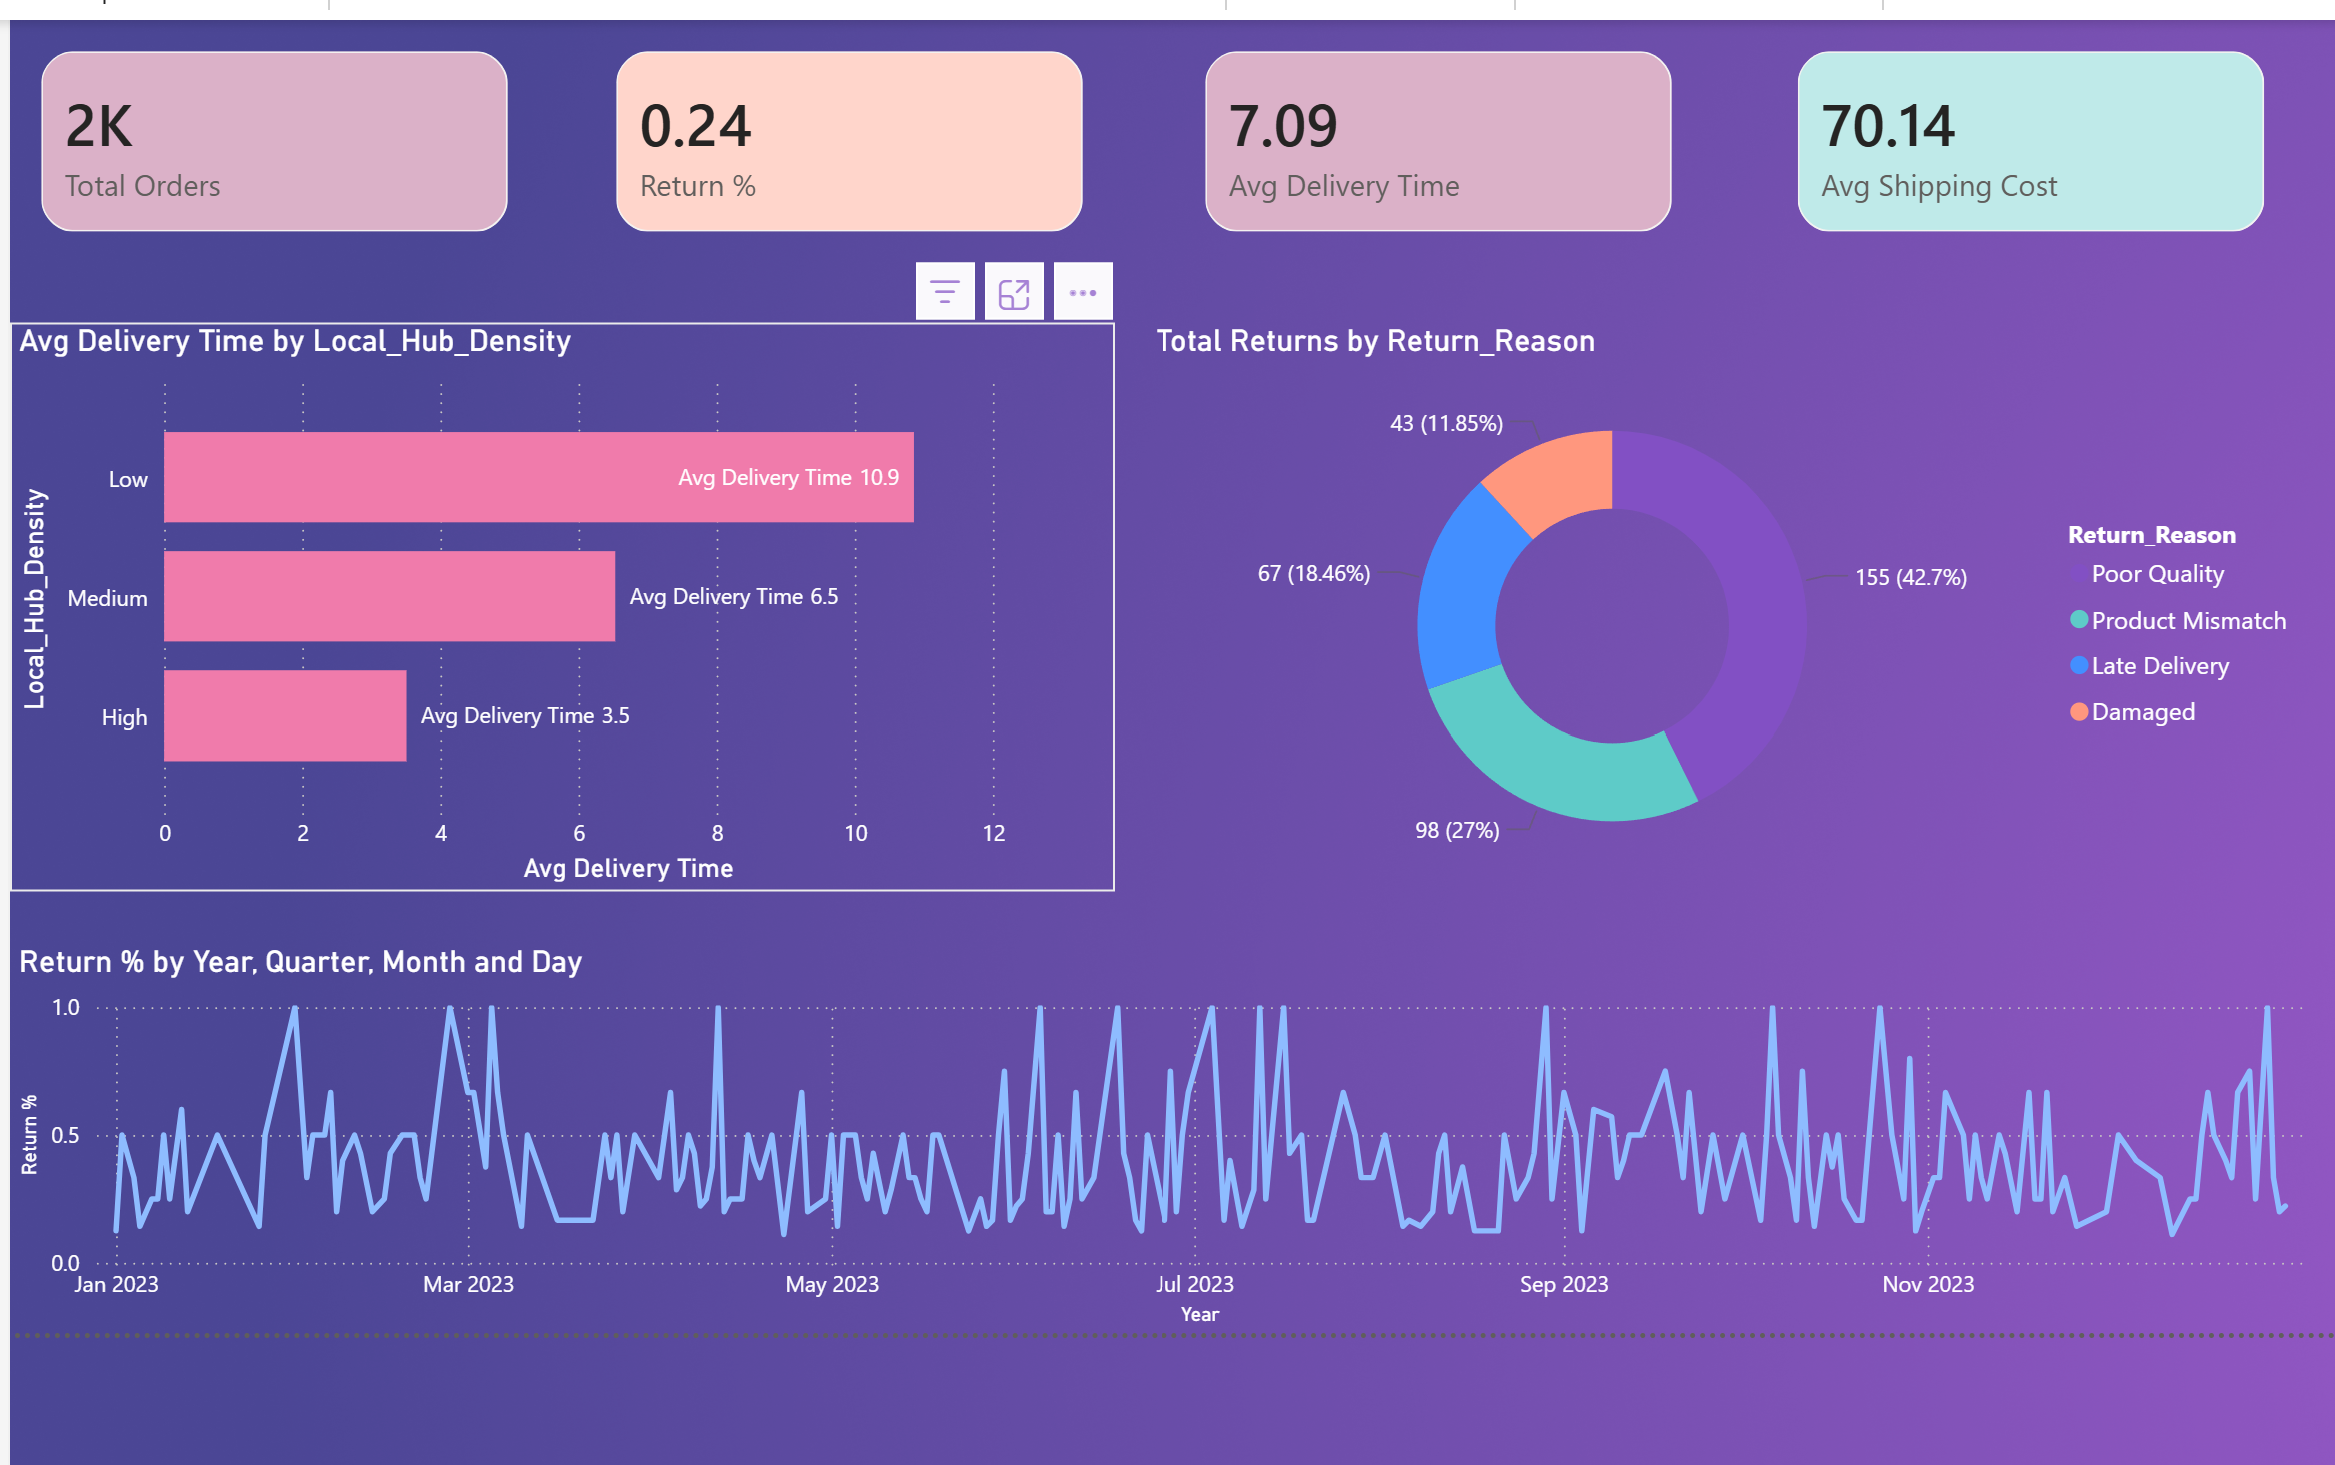

The dashboard page shown, as its layout file describes it:
{"tool":"powerbi","page":{"name":"Page 1","canvas":[1280,720],"ordinal":0},"visuals":[{"type":"cardVisual","fields":{"Data":["MeeshoData.Total Orders"]},"box":[0,0,290.9,133.1],"z":0},{"type":"cardVisual","fields":{"Data":["MeeshoData.Avg Shipping Cost"]},"box":[964.7,0,290.9,133.1],"z":1000},{"type":"cardVisual","fields":{"Data":["MeeshoData.Avg Delivery Time"]},"box":[639.5,0,290.9,133.1],"z":2000},{"type":"cardVisual","fields":{"Data":["MeeshoData.Return %"]},"box":[315.6,0,290.9,133.1],"z":3000},{"type":"clusteredBarChart","fields":{"Category":["MeeshoData.Local_Hub_Density"],"Y":["MeeshoData.Avg Delivery Time"]},"box":[0,166,606.5,311.5],"z":4000},{"type":"donutChart","fields":{"Category":["MeeshoData.Return_Reason"],"Y":["MeeshoData.Total Returns"]},"box":[624.4,166,640.8,311.5],"z":5000},{"type":"lineChart","fields":{"Y":["MeeshoData.Return %"],"Category":["MeeshoData.Order_Date.Variation.Date Hierarchy.Year","MeeshoData.Order_Date.Variation.Date Hierarchy.Quarter","MeeshoData.Order_Date.Variation.Date Hierarchy.Month","MeeshoData.Order_Date.Variation.Date Hierarchy.Day"]},"box":[0,506.3,1280.3,214.1],"z":6000}]}

Visuals, with their boxes on the page's 1280x720 design canvas (x1, y1, x2, y2). These are canvas units, not pixel positions in the 2335x1465 screenshot, which may show the page scaled, cropped or inside an application window:
cardVisual - MeeshoData.Total Orders: (0,0,291,133)
cardVisual - MeeshoData.Avg Shipping Cost: (965,0,1256,133)
cardVisual - MeeshoData.Avg Delivery Time: (640,0,930,133)
cardVisual - MeeshoData.Return %: (316,0,606,133)
clusteredBarChart - MeeshoData.Local_Hub_Density x MeeshoData.Avg Delivery Time: (0,166,606,478)
donutChart - MeeshoData.Return_Reason x MeeshoData.Total Returns: (624,166,1265,478)
lineChart - MeeshoData.Return % x MeeshoData.Order_Date.Variation.Date Hierarchy.Year: (0,506,1280,720)
